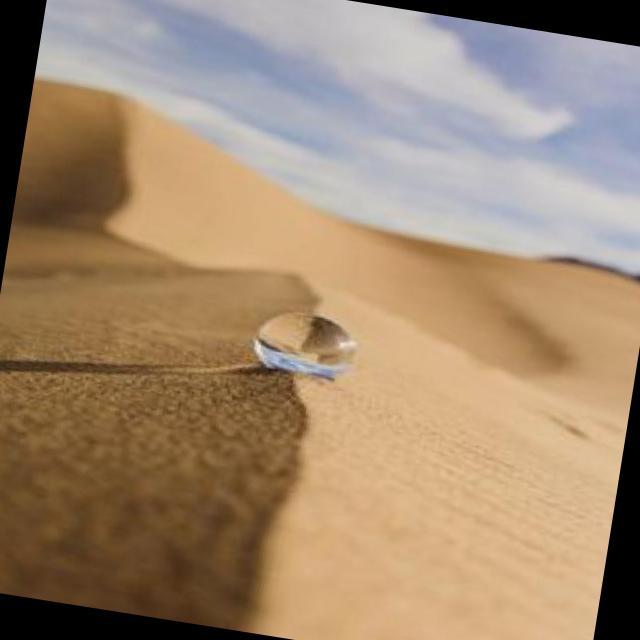white-sand: (0, 79, 640, 640)
